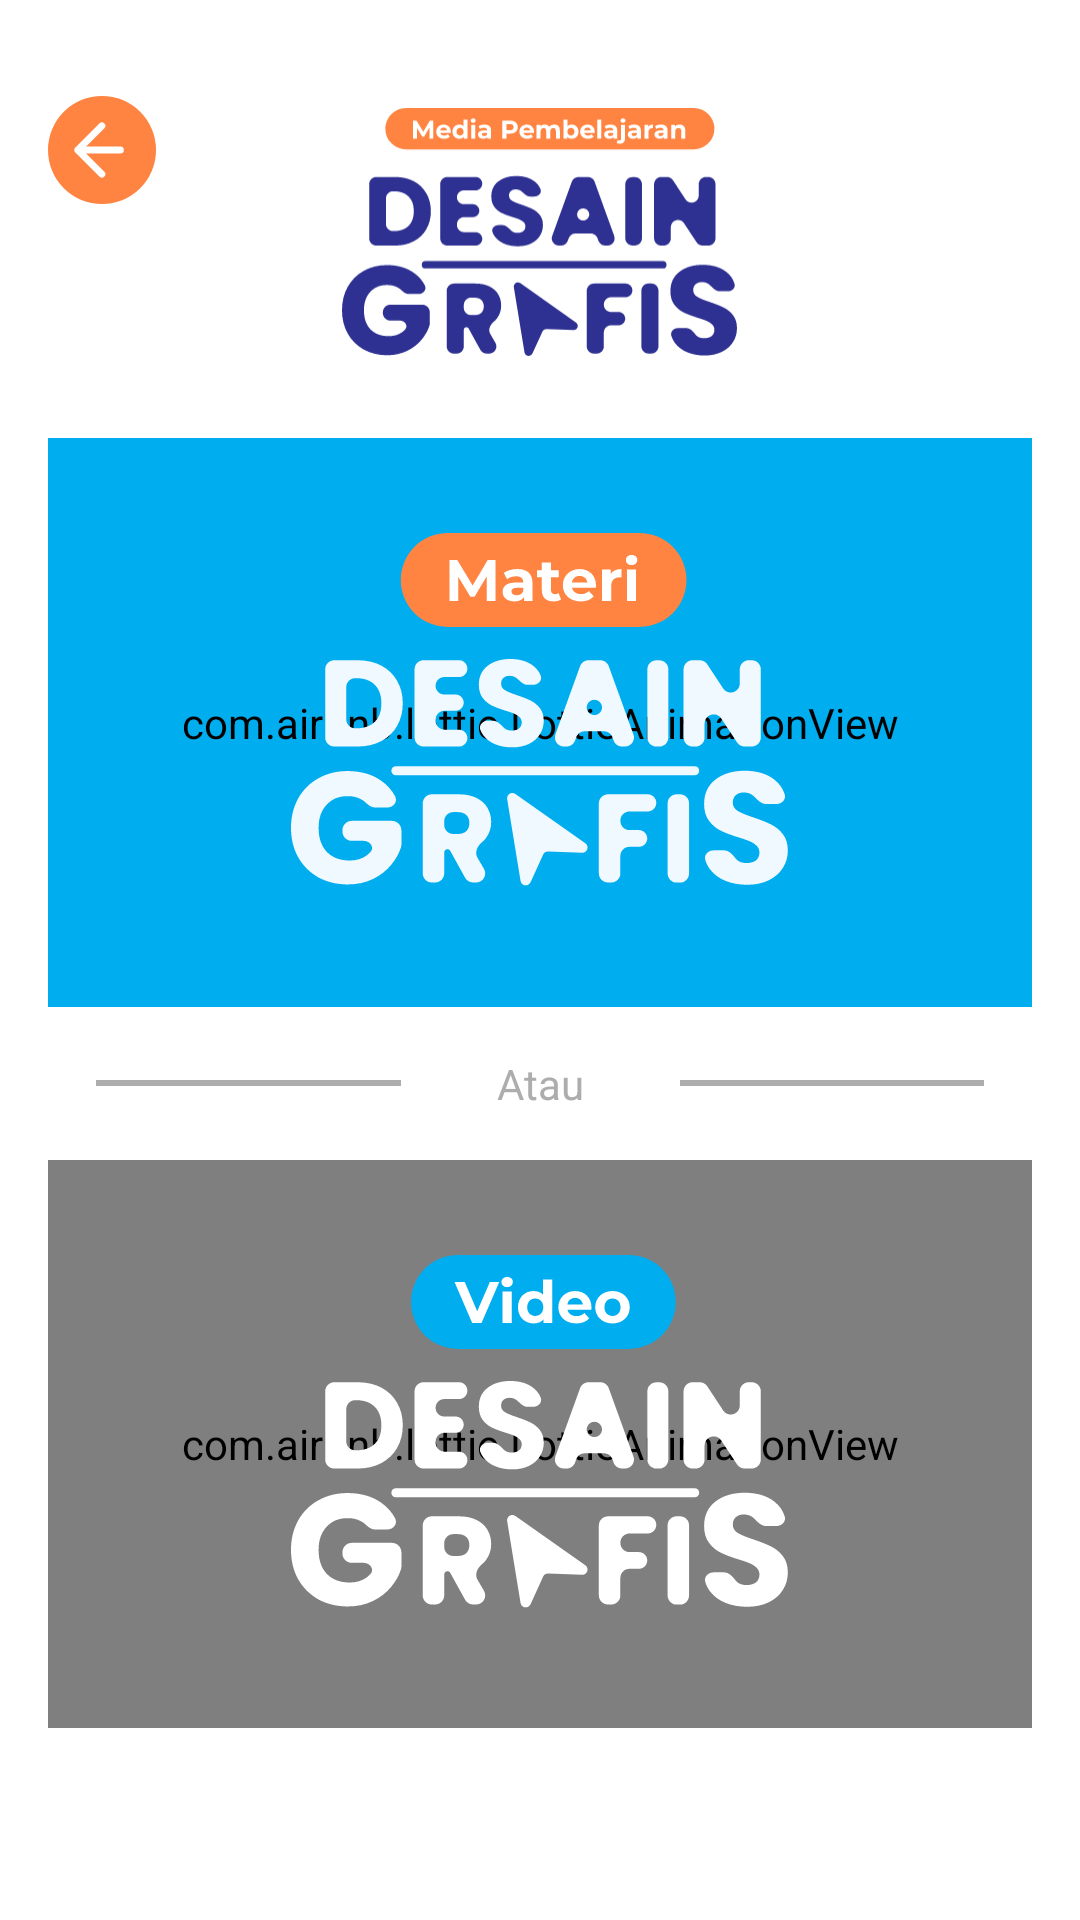

Where icons sit on this 1080x1920 app screen, as (x1, y1, x2, y2):
back: (48, 96, 156, 204)
